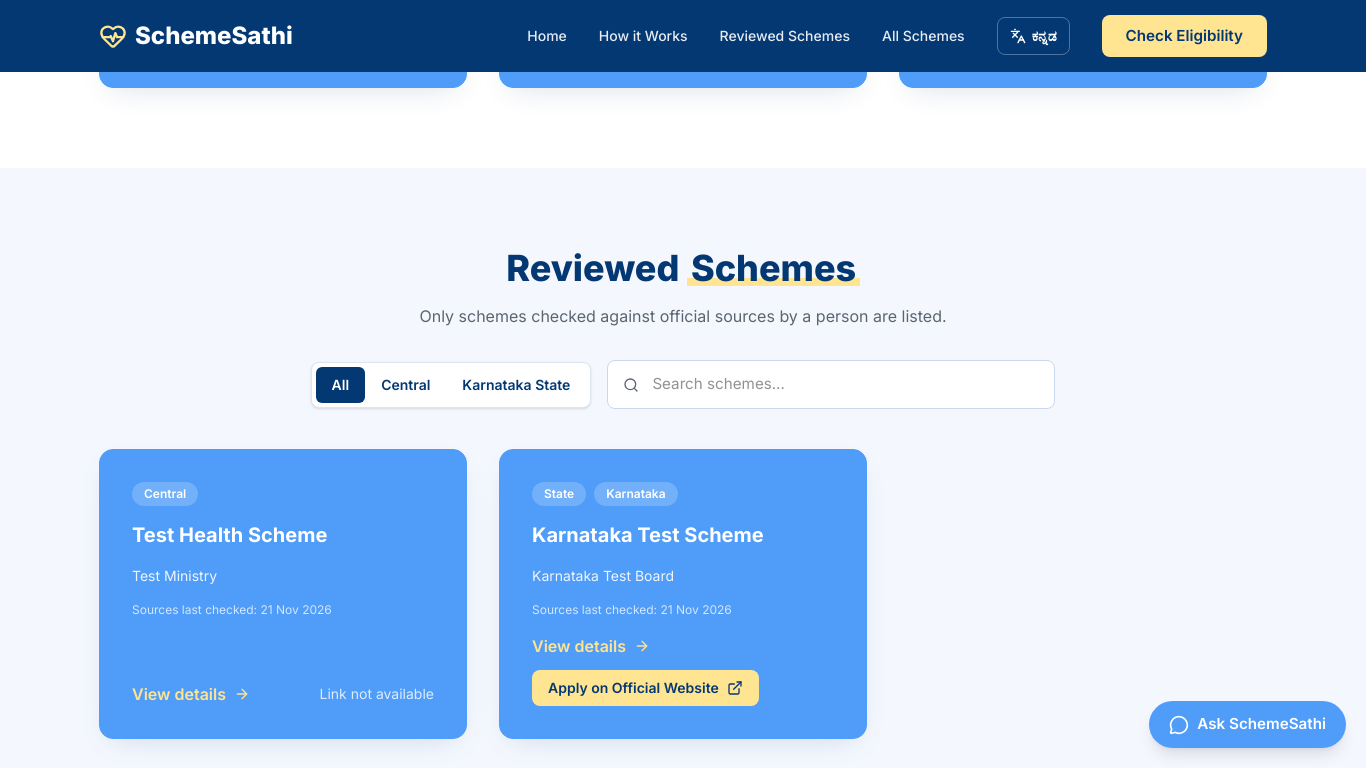
central / Karnataka filter › filters the home scheme list and works together with search
(page scrolled)
Check: the heading "Test Health Scheme" is shown, box x1=132 y1=523 x2=327 y2=547
Check: the heading "Karnataka Test Scheme" is shown, box x1=532 y1=523 x2=764 y2=547
Click the tab "Central": (406, 385) x1=365 y1=367 x2=446 y2=403
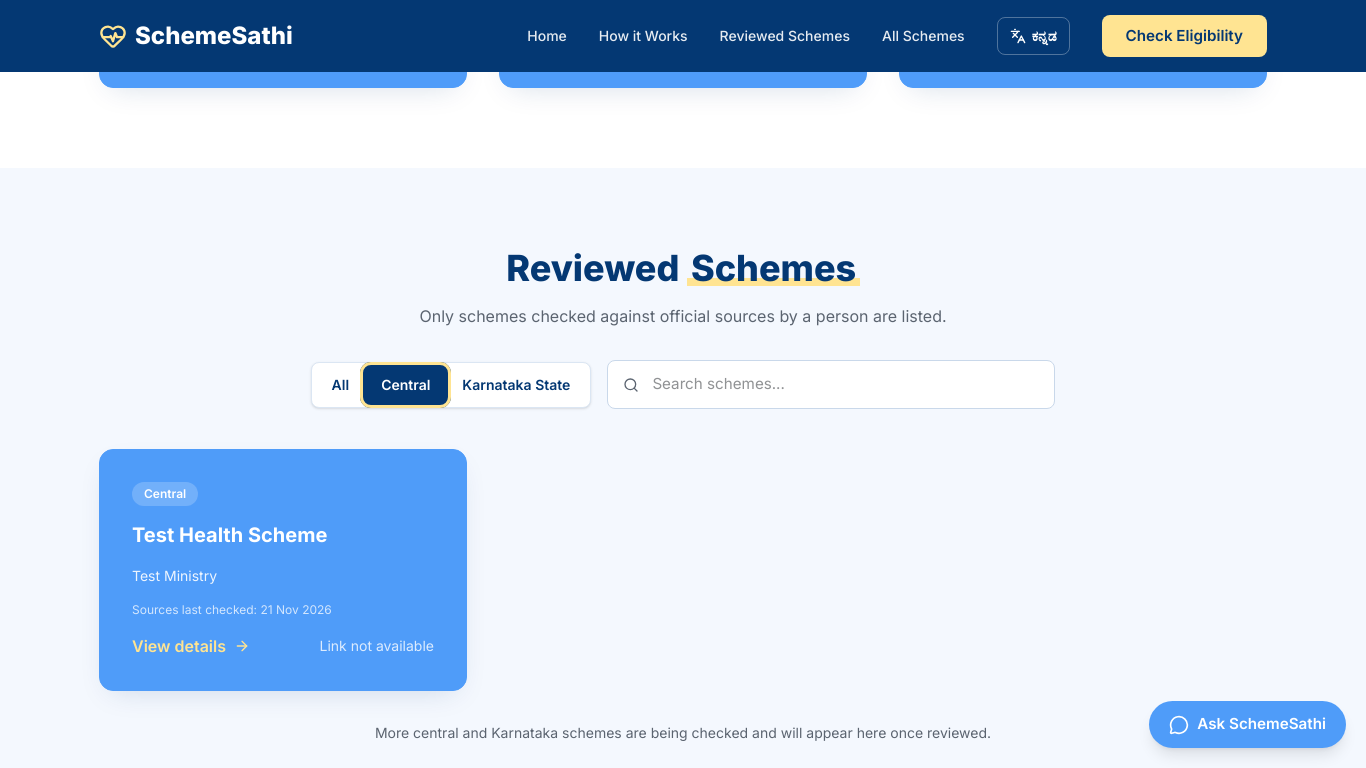
Check: the heading "Test Health Scheme" is shown, box x1=132 y1=523 x2=327 y2=547
Check: the heading "Karnataka Test Scheme" is gone
Click the tab "Karnataka State": (516, 385) x1=446 y1=367 x2=586 y2=403
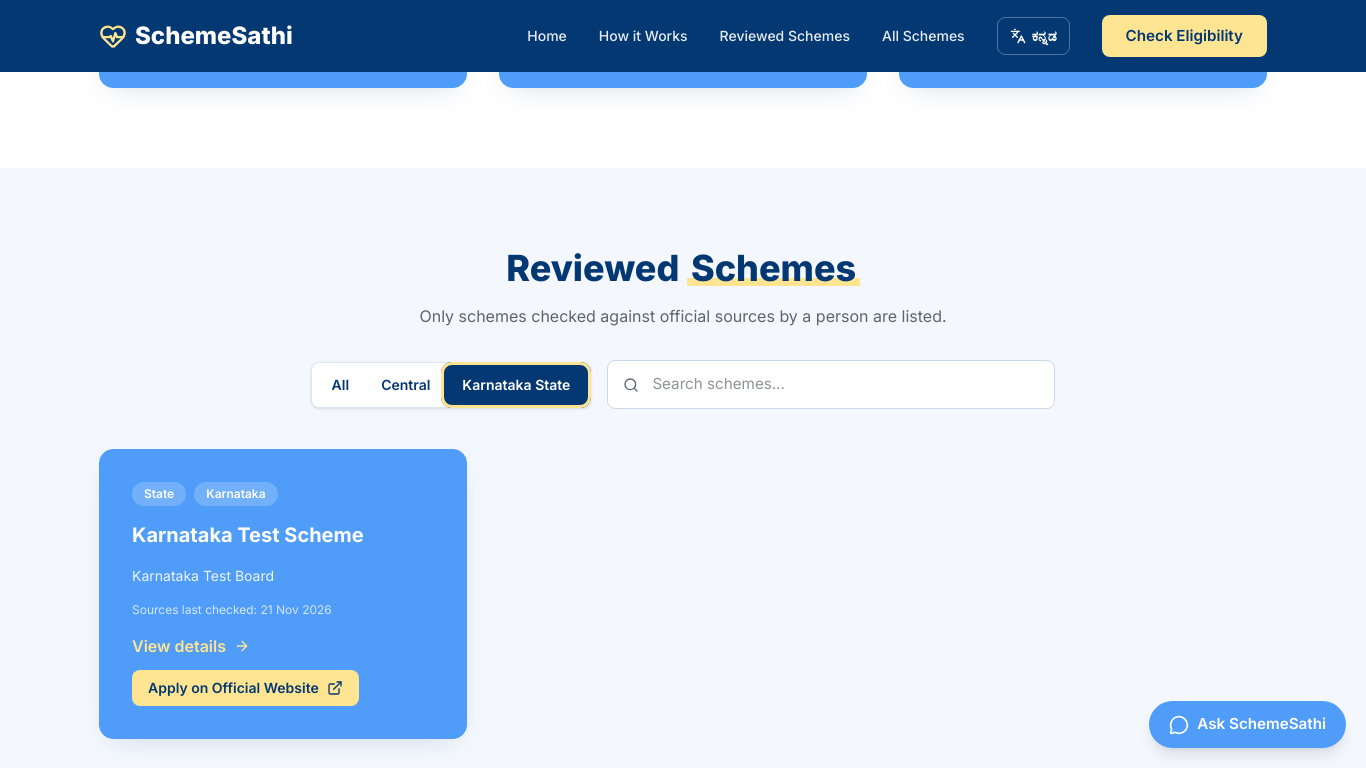
Check: the heading "Karnataka Test Scheme" is shown, box x1=132 y1=523 x2=364 y2=547
Check: the heading "Test Health Scheme" is gone
In the search field with placeholder "Search schemes...": (831, 385) x1=607 y1=360 x2=1055 y2=409, type "Health"
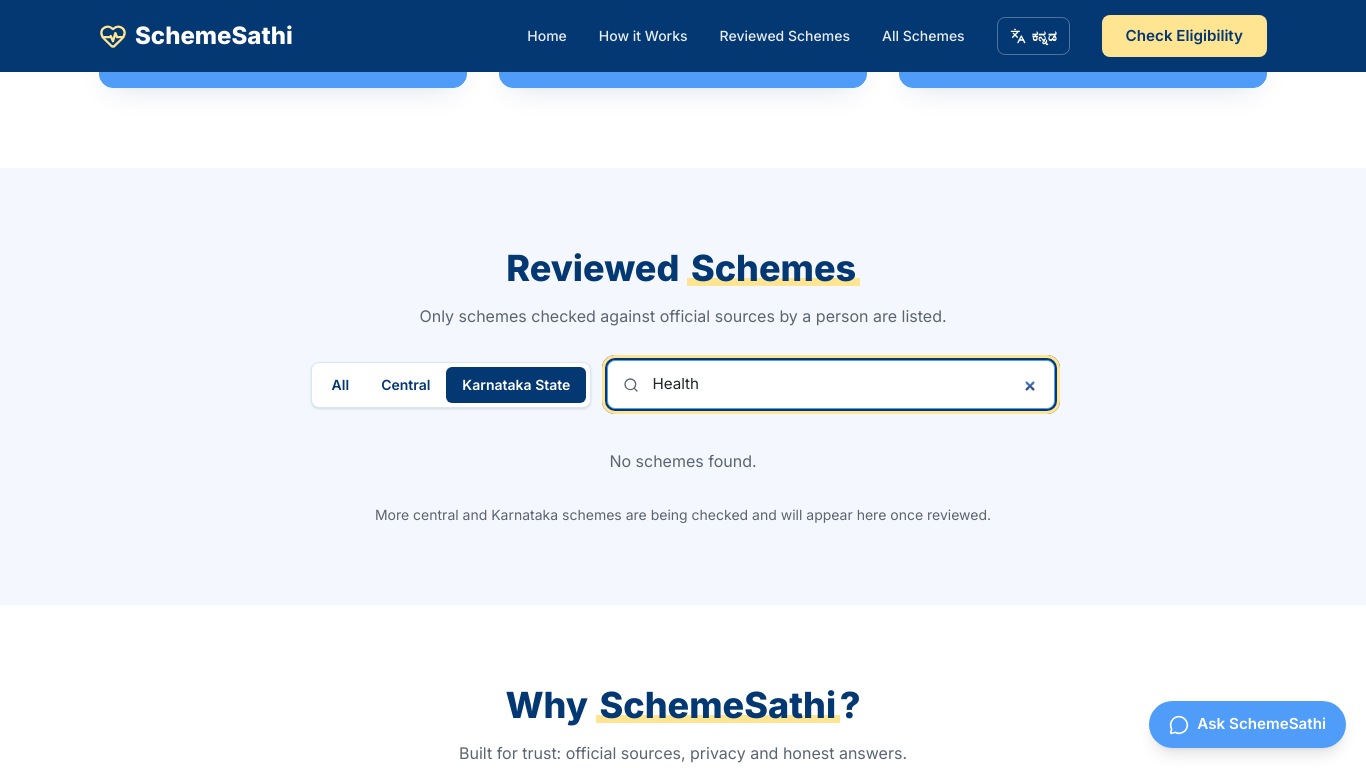
Check: the text "No schemes found." is shown, box x1=609 y1=451 x2=757 y2=471
Click the tab "All": (340, 385) x1=316 y1=367 x2=365 y2=403
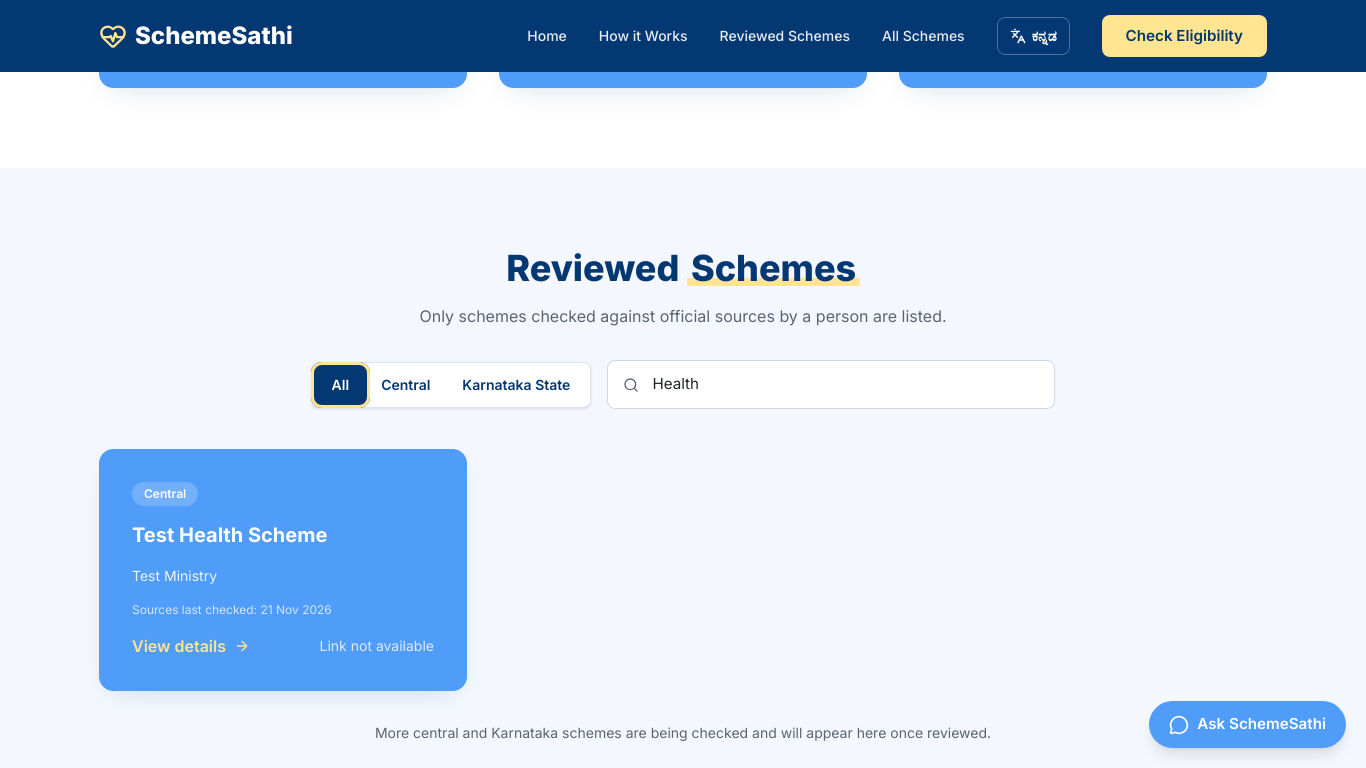
Check: the heading "Karnataka Test Scheme" is not shown
Check: the heading "Test Health Scheme" is shown, box x1=132 y1=523 x2=327 y2=547
